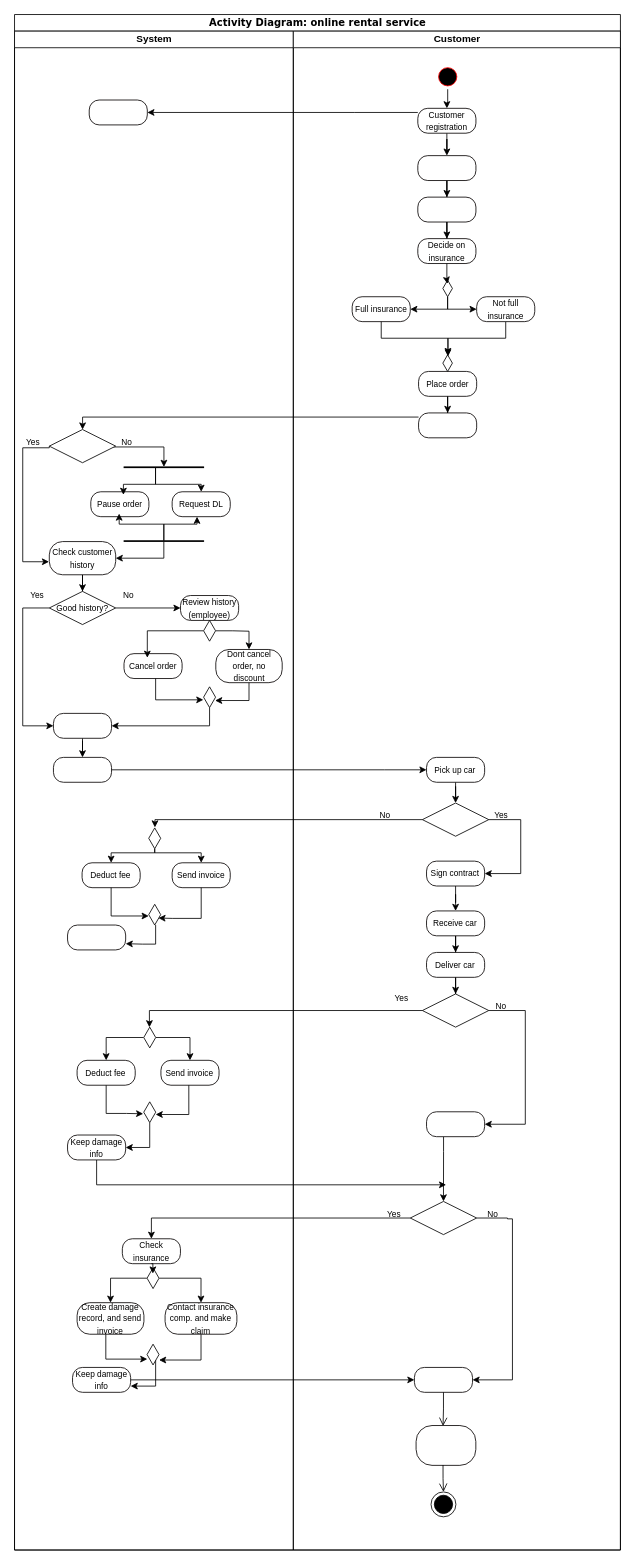
Some shapes in this 635 by 1565 pixel diagram are drawn without their labels. The shapes that lost their labels are listed below. From the top down, each one's box as (x1, y1, x2, y2) in pixels, then its label:
(88, 99, 147, 125): Keep customer info
(417, 155, 476, 181): Search for car
(417, 196, 476, 222): Store credit card
(418, 412, 477, 438): Confirm order
(48, 429, 116, 463): Registered DL?
(53, 713, 112, 738): Give discount if valid
(53, 757, 112, 782): Confirm order, keep order info
(422, 802, 489, 836): Customer meets?
(67, 924, 126, 950): Keep fee info
(422, 993, 489, 1027): Sigarette damage?
(426, 1111, 485, 1137): Nothing to pay
(409, 1201, 477, 1235): Other damage?
(414, 1367, 473, 1392): Repair car if necessary
(415, 1425, 476, 1465): Transport to branch, for new customer
